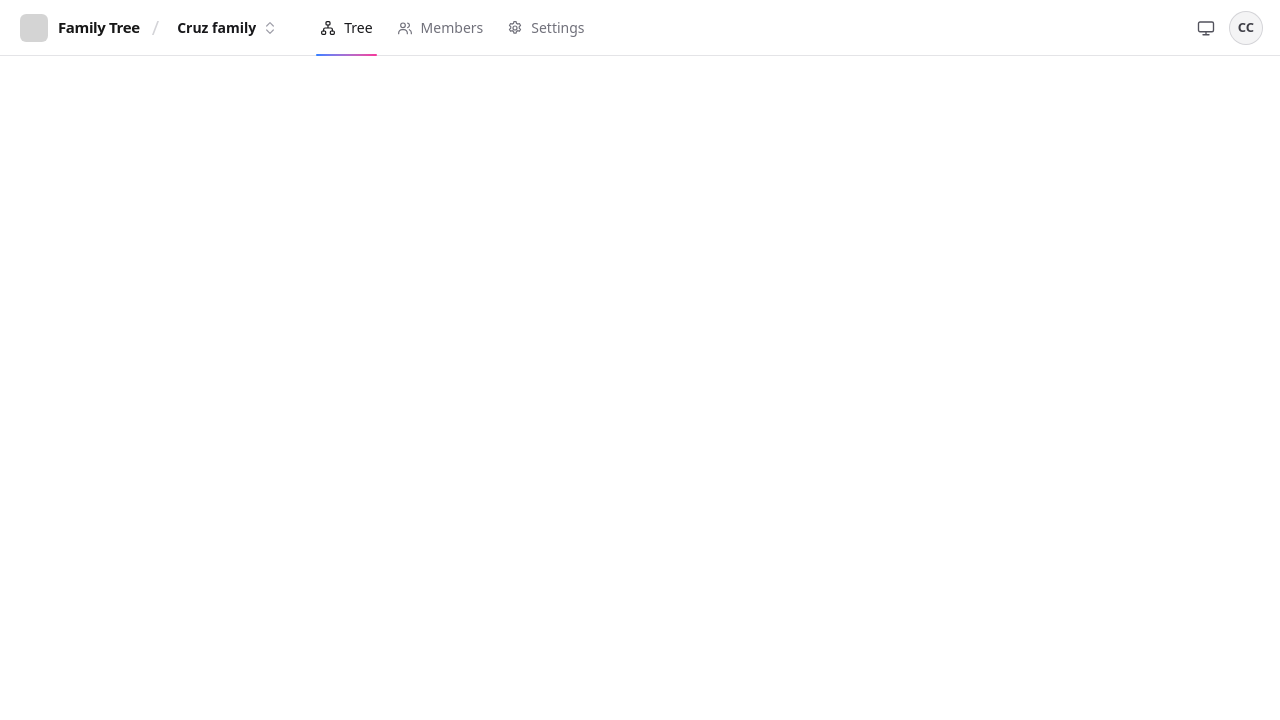
the app's header (the production look) › the theme is one button: Day, Night or Follow device, the choice ticked and remembered
Click the button named "Theme" at (1206, 28), box [1188,10,1224,46]
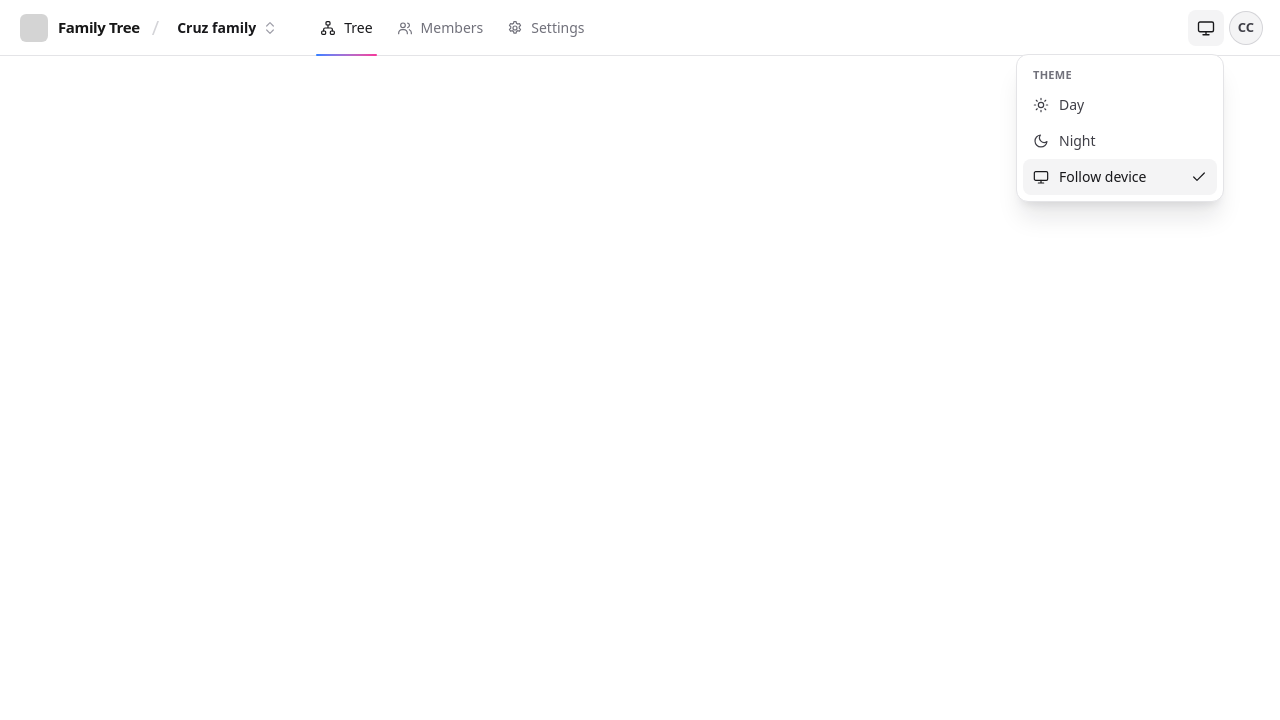
Click the menu item "Night" at (1120, 141), box [1023,123,1217,159]
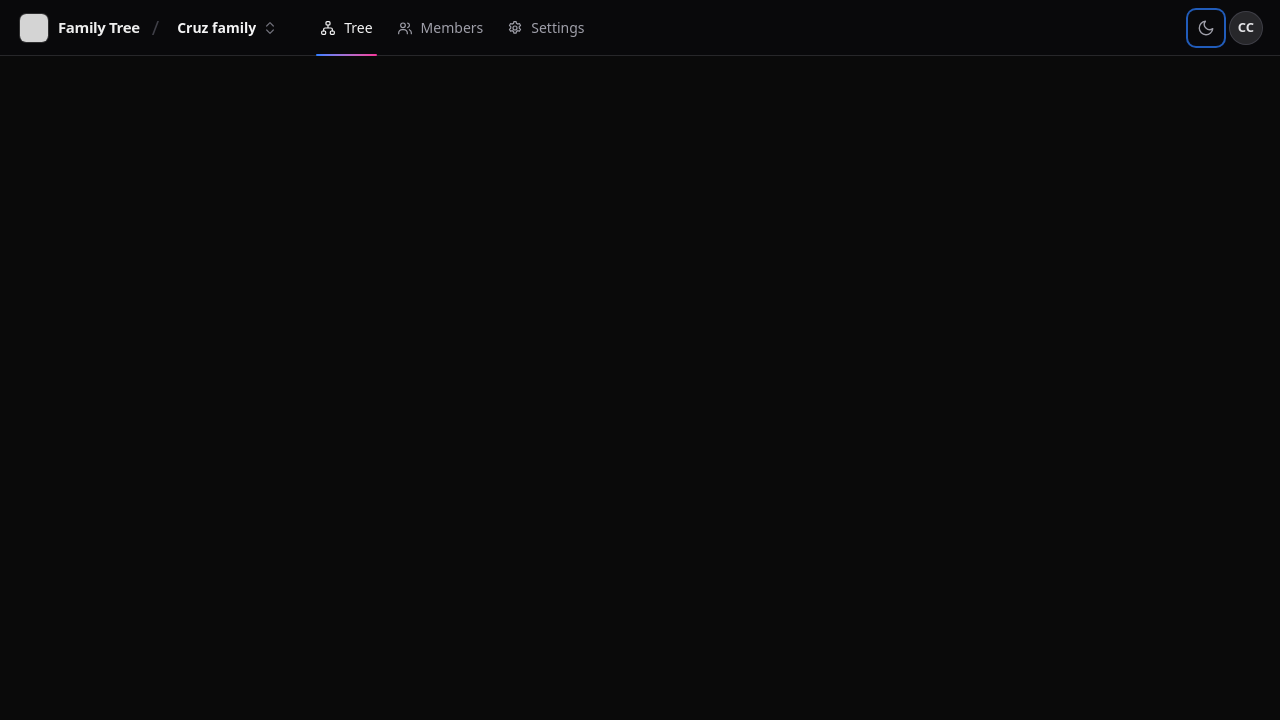
Now the menu is gone
